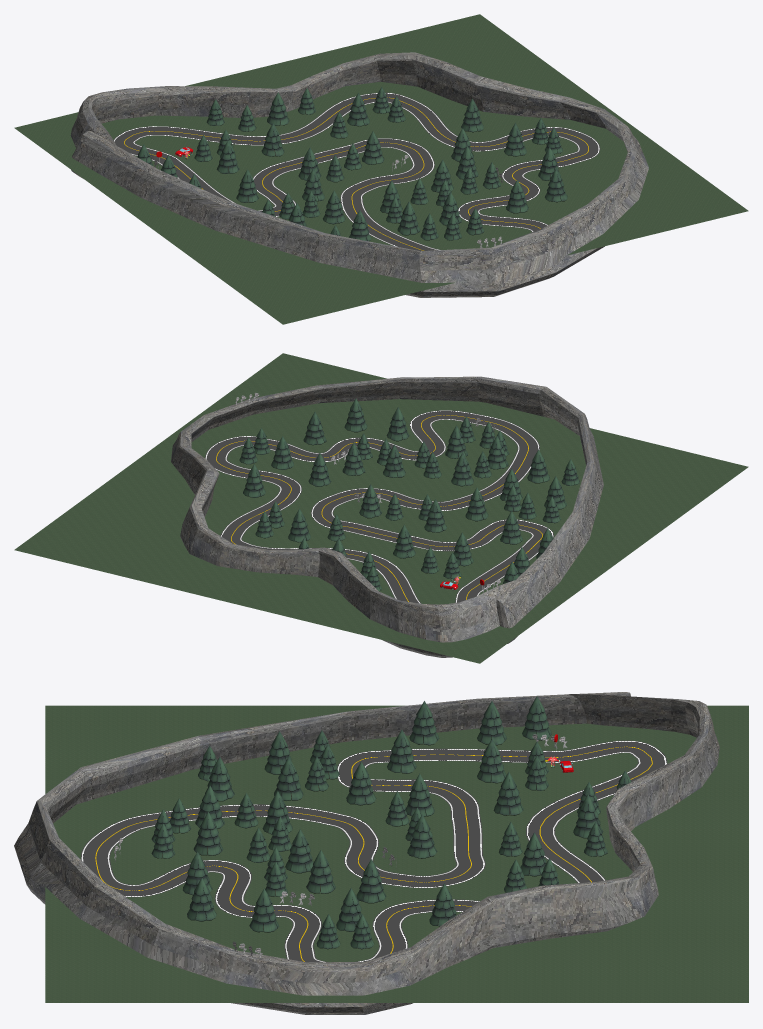
The picture shows the model from 3 angles, top to bottom: view 1: azimuth 30°, elevation 25°; view 2: azimuth 150°, elevation 25°; view 3: azimuth 270°, elevation 25°; orthographic projection. The views are drawn at different scales.
Parts seen in each view (by area): view 1: Plane.001, Cube.002, Plane; view 2: Plane.001, Cube.002, Plane; view 3: Plane.001, Cube.002, Plane, PineTree_001.002, PineTree_001.048, PineTree_001.006, PineTree_001.027, PineTree_001.031, PineTree_001.047, PineTree_001.003, PineTree_001.044, PineTree_001.013 (+19 smaller).
Part boxes in pixels (left/top/right/bottom): Plane.001: left=14, top=14, right=748, bottom=324; Cube.002: left=70, top=52, right=648, bottom=297; Plane: left=113, top=92, right=600, bottom=251; Plane.001: left=14, top=353, right=748, bottom=663; Cube.002: left=171, top=376, right=603, bottom=657; Plane: left=205, top=410, right=554, bottom=603; Plane.001: left=45, top=705, right=748, bottom=1002; Cube.002: left=14, top=692, right=719, bottom=1014; Plane: left=80, top=740, right=667, bottom=962; PineTree_001.002: left=409, top=701, right=439, bottom=745; PineTree_001.048: left=346, top=761, right=376, bottom=805; PineTree_001.006: left=477, top=739, right=506, bottom=783; PineTree_001.027: left=407, top=814, right=437, bottom=858; PineTree_001.031: left=493, top=772, right=523, bottom=815; PineTree_001.047: left=187, top=878, right=216, bottom=921; PineTree_001.003: left=387, top=729, right=416, bottom=773; PineTree_001.044: left=356, top=859, right=386, bottom=903; PineTree_001.013: left=306, top=850, right=335, bottom=893.
Size of the model in its own units: 625 by 72.09 by 653.
Materials: 82 (73 with a texture image).
